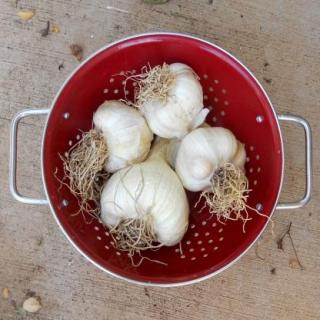Bawang Putih: (102, 163, 189, 253), (139, 63, 206, 138), (174, 128, 248, 194), (91, 100, 153, 173)
